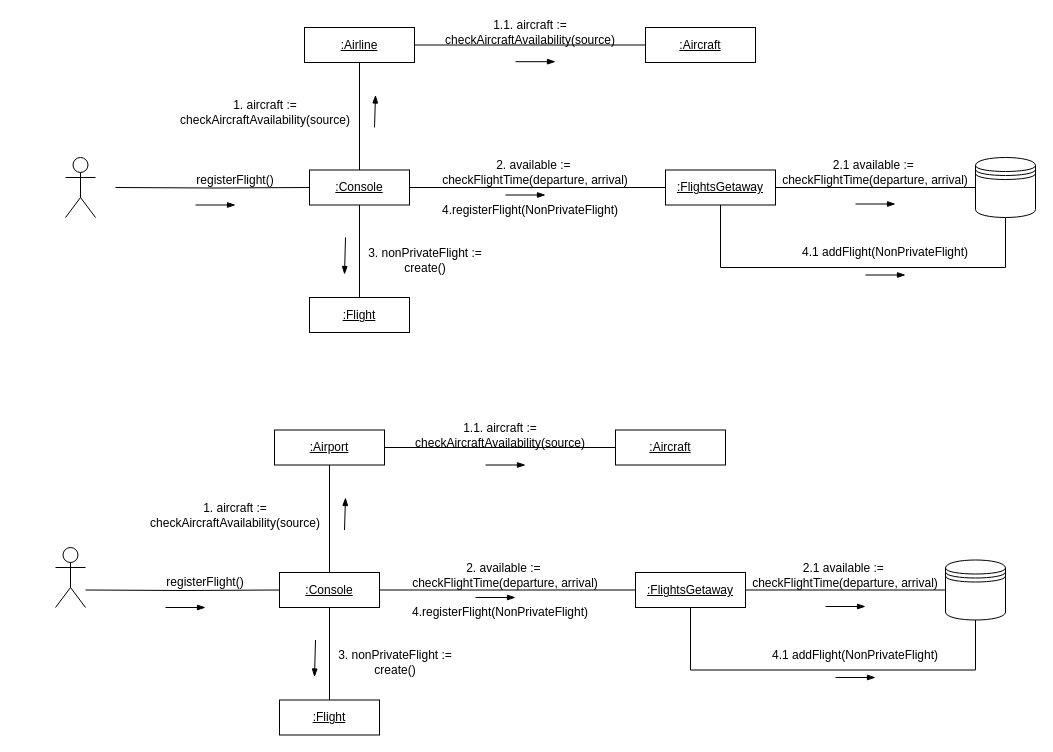
Some shapes in this 1053 by 752 pixel diagram are drawn without their labels. The shapes that lost their labels are listed below. From the top down, each one's centre as x and y in pixels, then its label:
At (x=80, y=187): "AirlineAdministrator".
At (x=70, y=577): "AirportAdministrator".
